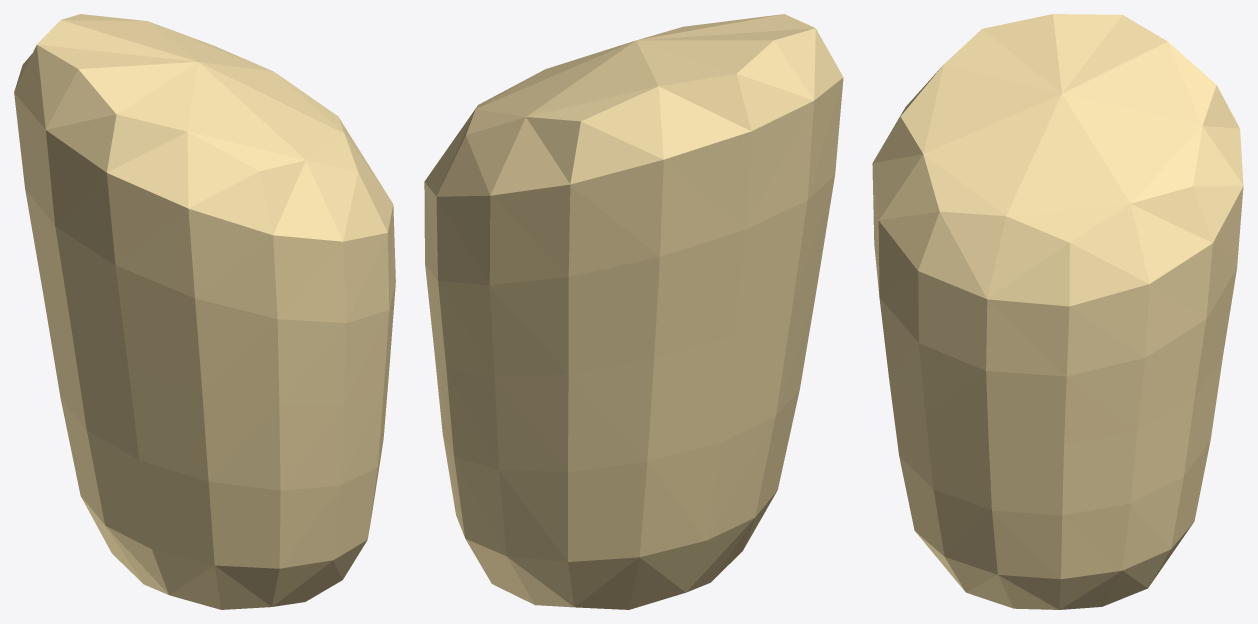
File: leftThigh.obj
3 views of the same model, side by side, from view 1: azimuth 30°, elevation 25°; view 2: azimuth 150°, elevation 25°; view 3: azimuth 270°, elevation 25° (orthographic). The views are drawn at different scales.
Visible parts, largest first — view 1: もも.001; view 2: もも.001; view 3: もも.001.
Part boxes in pixels (<box>): もも.001: <box>14,14,395,609</box>; もも.001: <box>424,14,843,609</box>; もも.001: <box>872,14,1243,609</box>.
Size of the model in its own units: 0.1131 by 0.1822 by 0.1204.
Materials: 1 (1 with a texture image).
